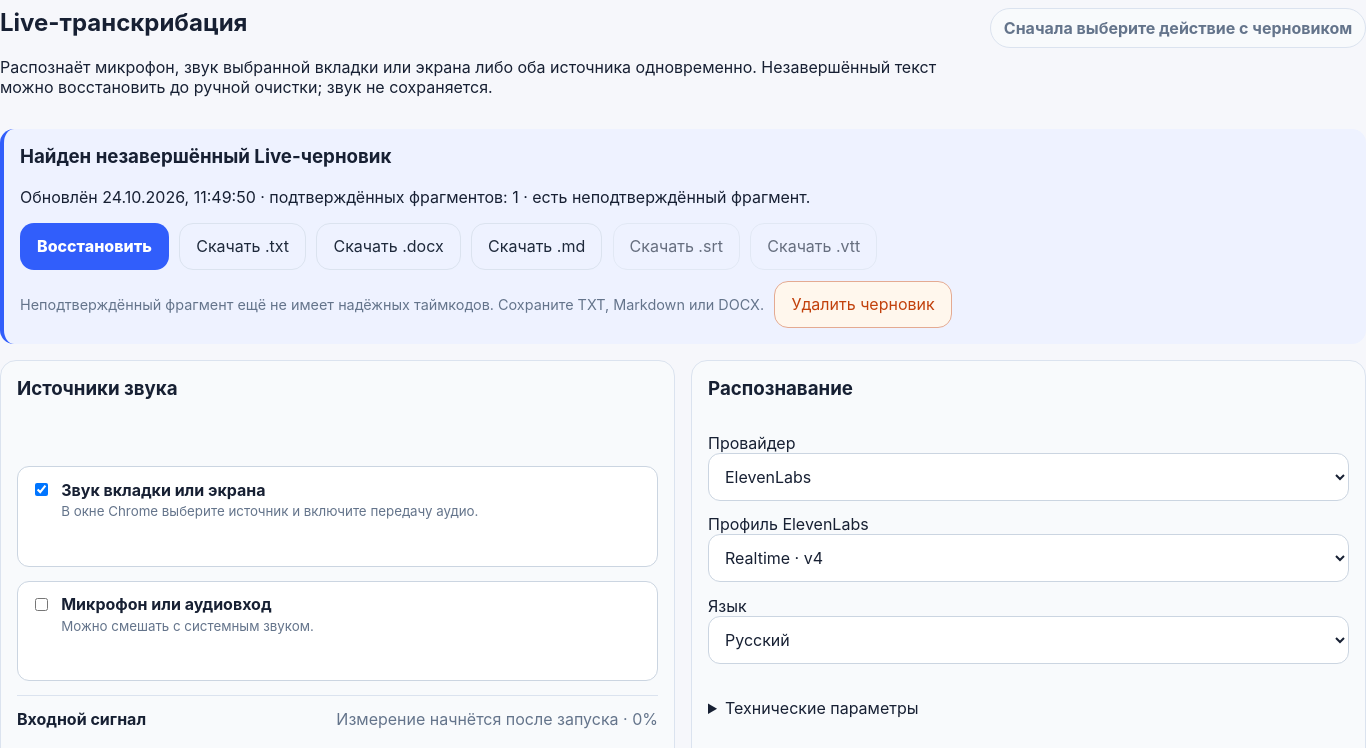
LiveTranscriptionPanel › offers an owner-scoped server draft after reload and restores partial as unconfirmed
The width and height of the screenshot is (1366, 748).
Expected: the element named "Восстановление Live-черновика" is shown, [0,129,1365,344]
Click the button "Восстановить" at coordinates (94, 246), box [20,223,169,270]
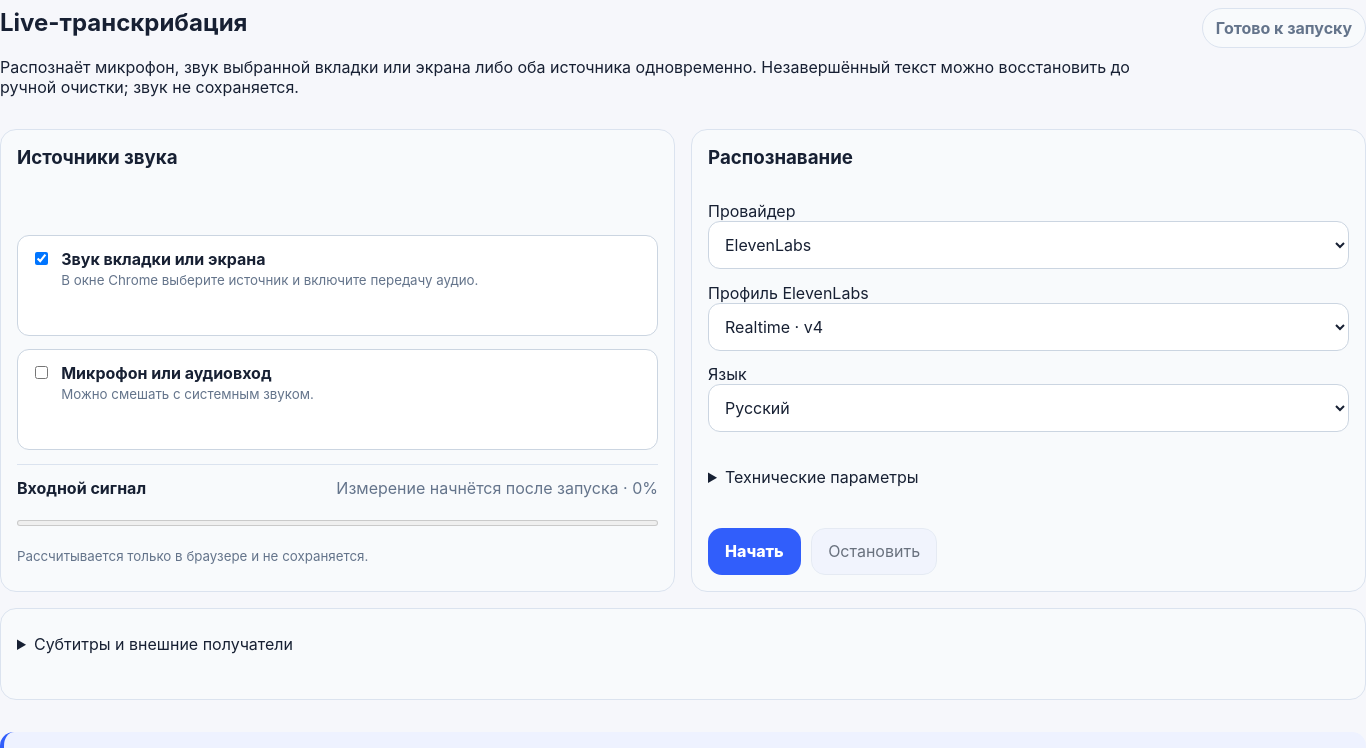
Result: the button "Начать" is enabled at [708,528,801,575]
